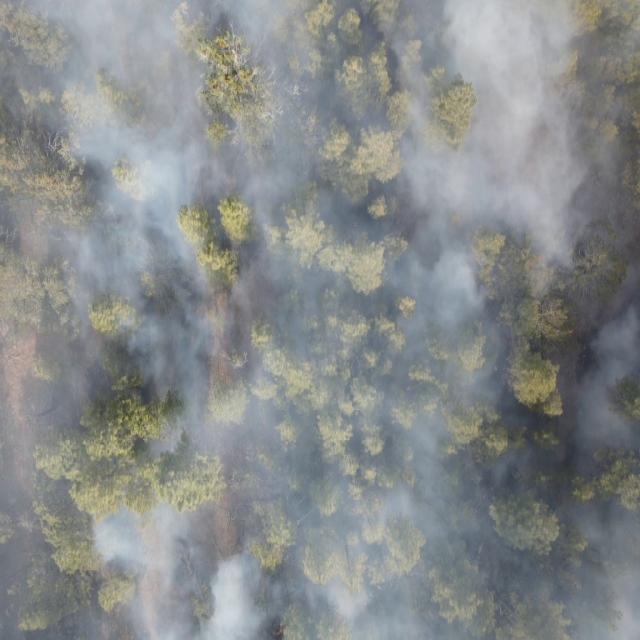fire: (269, 620, 286, 640)
